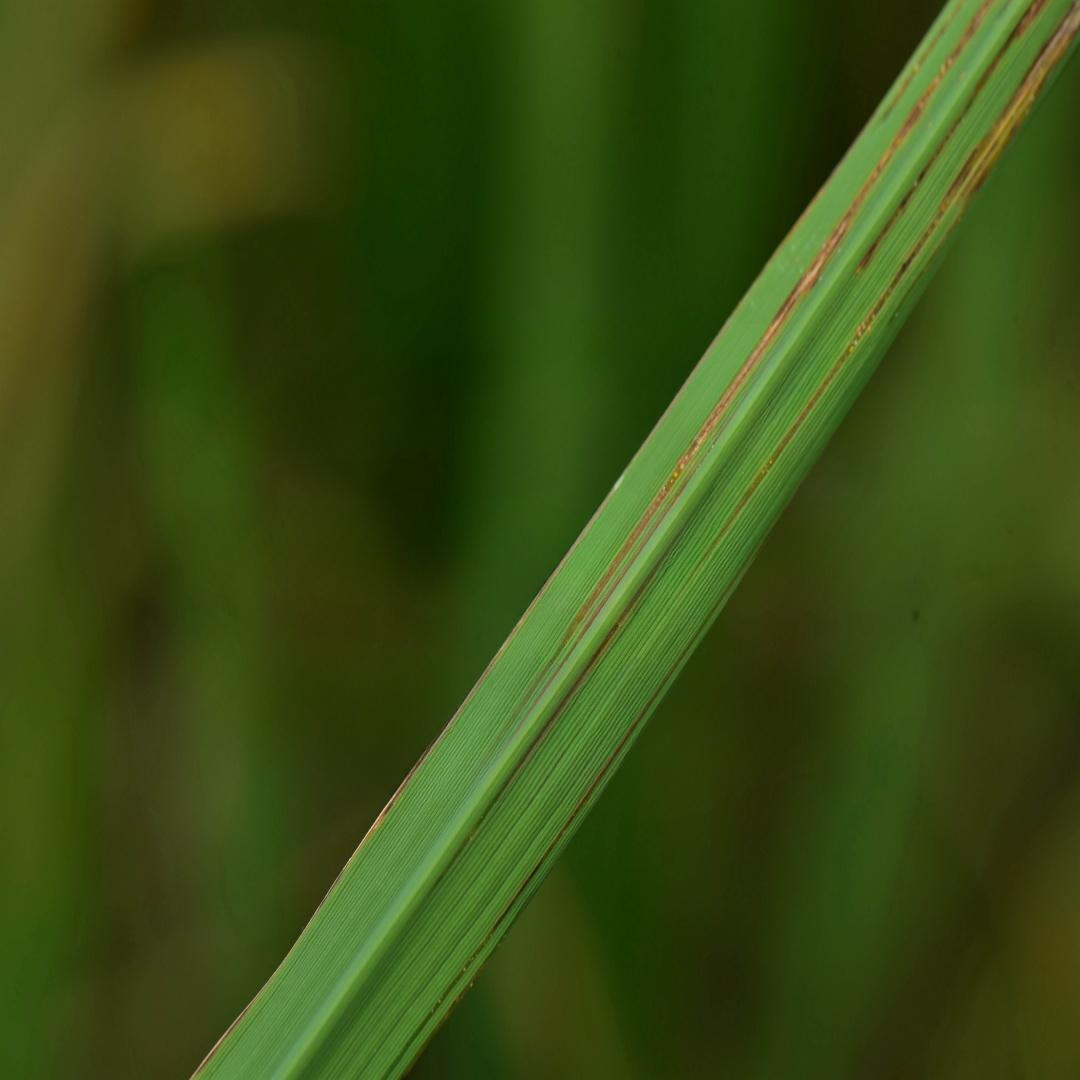BLS: (518, 0, 996, 714), (693, 0, 1079, 573), (383, 534, 765, 1078), (427, 496, 704, 895), (512, 411, 738, 737), (854, 0, 1048, 274), (878, 0, 966, 123)
LEAF: (188, 0, 1079, 1079)
